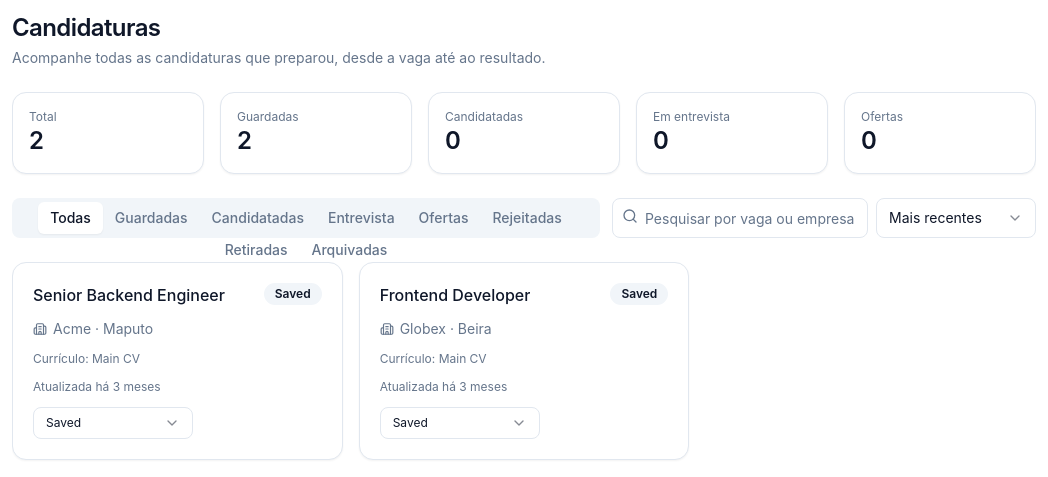
Test: ApplicationsPage › searches by job title
This screenshot has width=1048, height=477.
Expected: the text "Senior Backend Engineer" is shown, [33,283,225,307]
Type "Frontend" into the field named "Pesquisar candidaturas" at (740, 218), box [612,198,868,238]
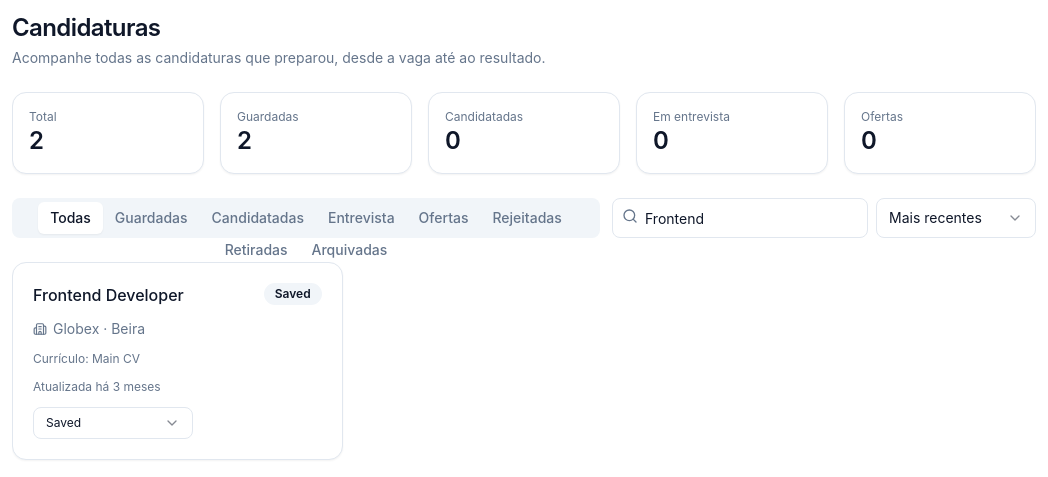
Expected: the text "Frontend Developer" is shown, [33,283,184,307]
Now the link "Senior Backend Engineer" is gone
